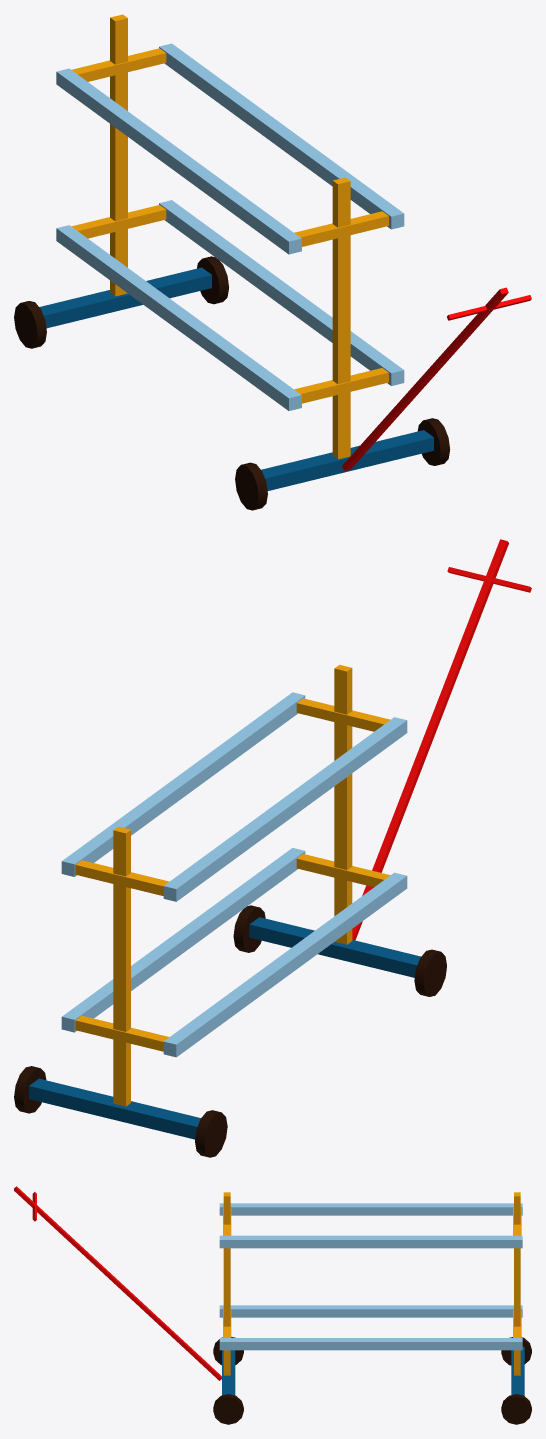
Rendered from Disc_Hammer_transport.FBX.
The picture shows the model from 3 angles, top to bottom: view 1: azimuth 30°, elevation 25°; view 2: azimuth 150°, elevation 25°; view 3: azimuth 270°, elevation 25°; orthographic projection. The views are drawn at different scales.
Parts seen in each view (by area): view 1: Disc_Hammer_transport; view 2: Disc_Hammer_transport; view 3: Disc_Hammer_transport.
Boxes of the visible parts, x1,y1,x2,y2 form: Disc_Hammer_transport: (14, 14, 531, 510); Disc_Hammer_transport: (14, 539, 531, 1157); Disc_Hammer_transport: (14, 1186, 531, 1424).
Bounding box in the file's own units: 7.72 × 12.2 × 27.74.
